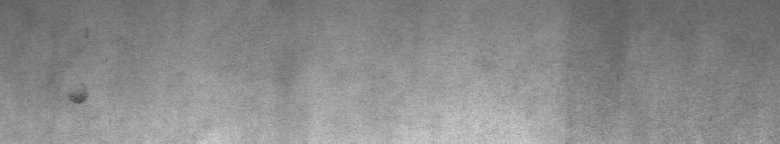fi: (67, 88, 91, 108)
